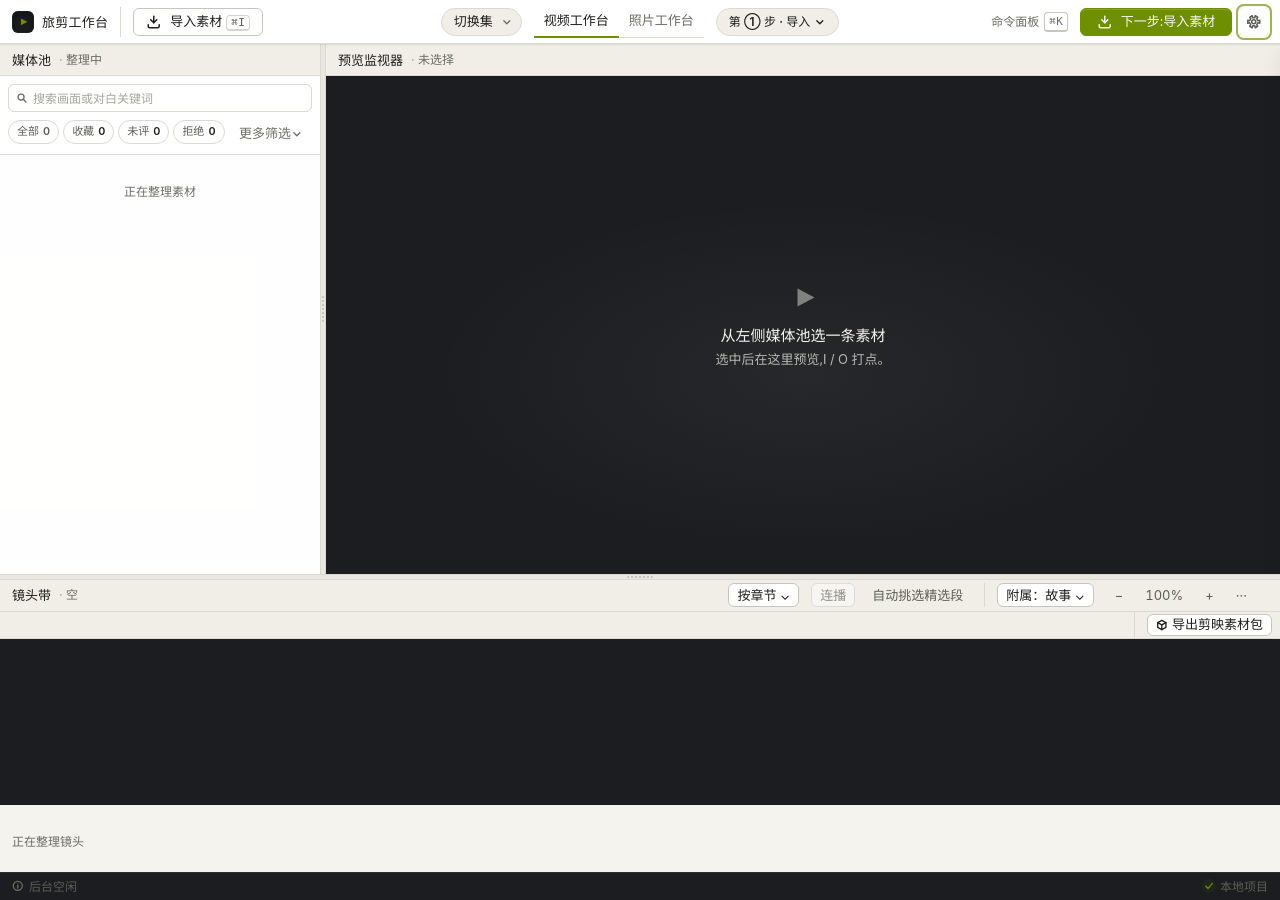
Test: R13 设置 → 快捷键 › tab「快捷键」、table「快捷键表」;默认剪映预设,导出 ⌘E、逐帧 ← / ,;分割两行灰且不可改
The width and height of the screenshot is (1280, 900).
Click the button named "设置": [1254, 22] box [1240,8,1268,36]
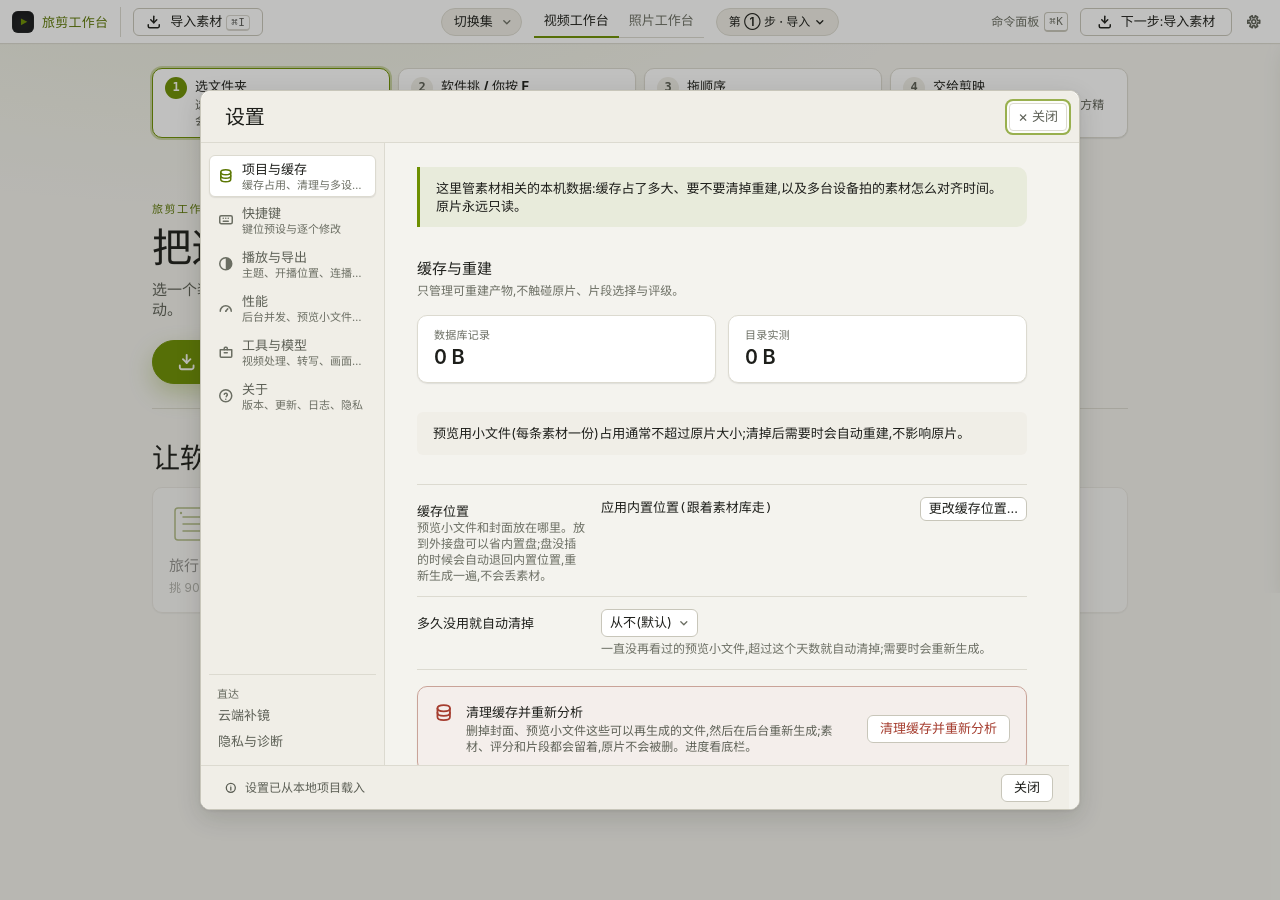
Check: the message reads "设置已从本地项目载入", box [245,780,365,794]
Click the tab "快捷键 键位预设与逐个修改": [292, 220] box [209,199,376,241]
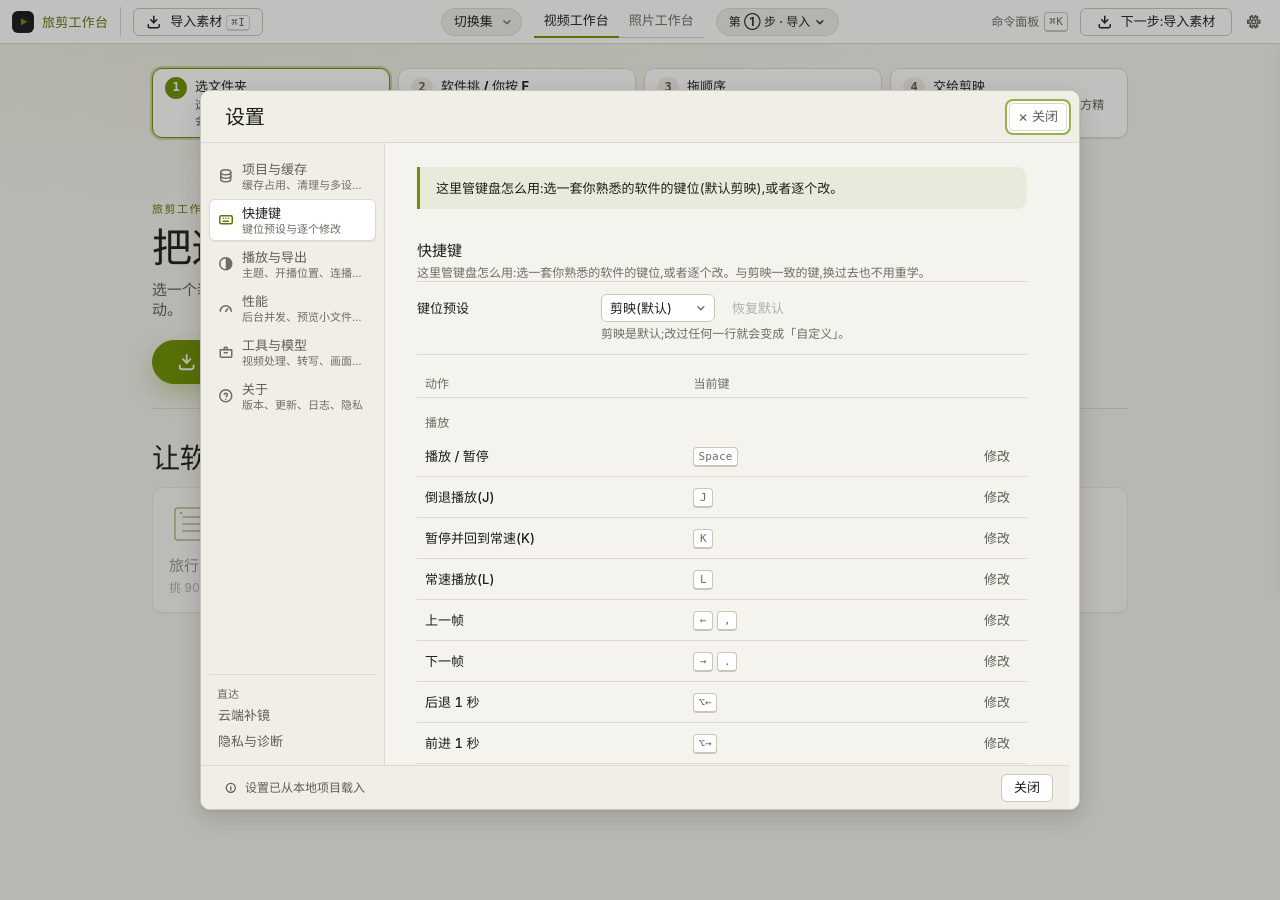
Check: the dropdown labelled "键位预设" shows "剪映(默认)", box [601,294,715,322]
Check: the button "恢复默认" is disabled, box [723,296,793,320]
